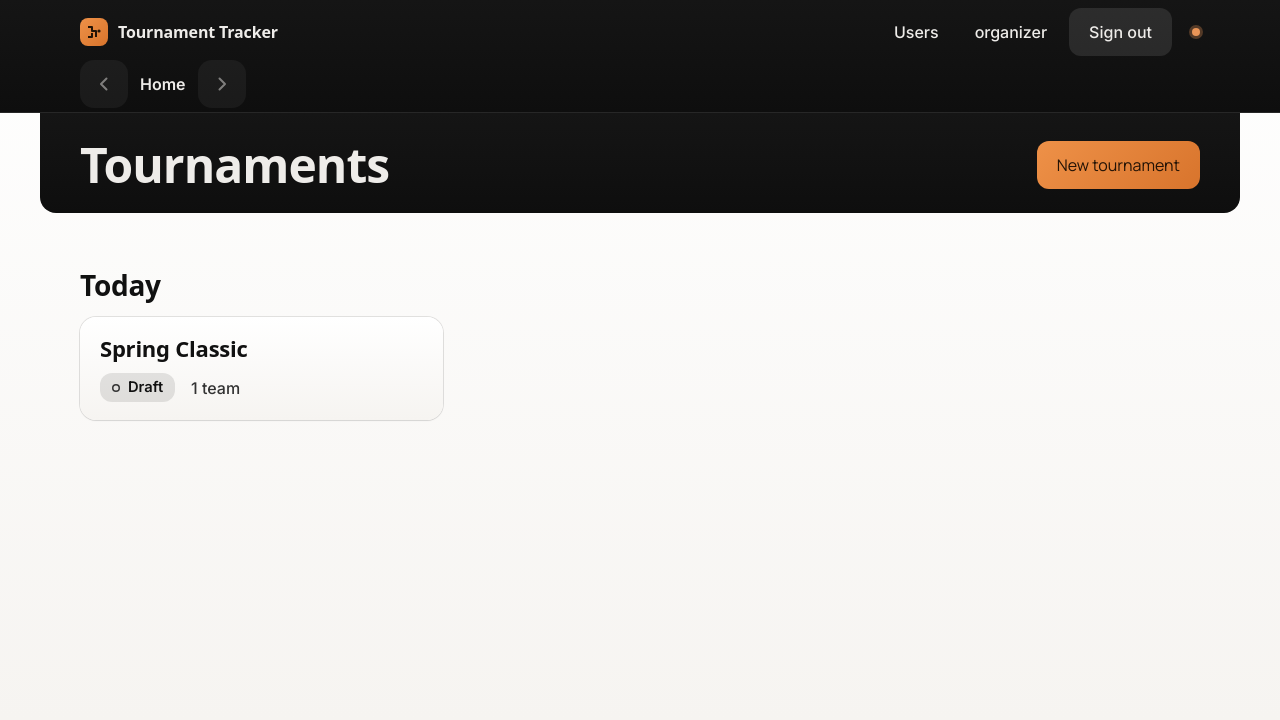
navigating from the main page to a tournament page and back to a team page
This screenshot has width=1280, height=720.
What coordinates should you click on to do the following:
click the link "Spring Classic"
I would click on:
 (174, 348)
Its box is [100, 335, 248, 361].
(page scrolled)
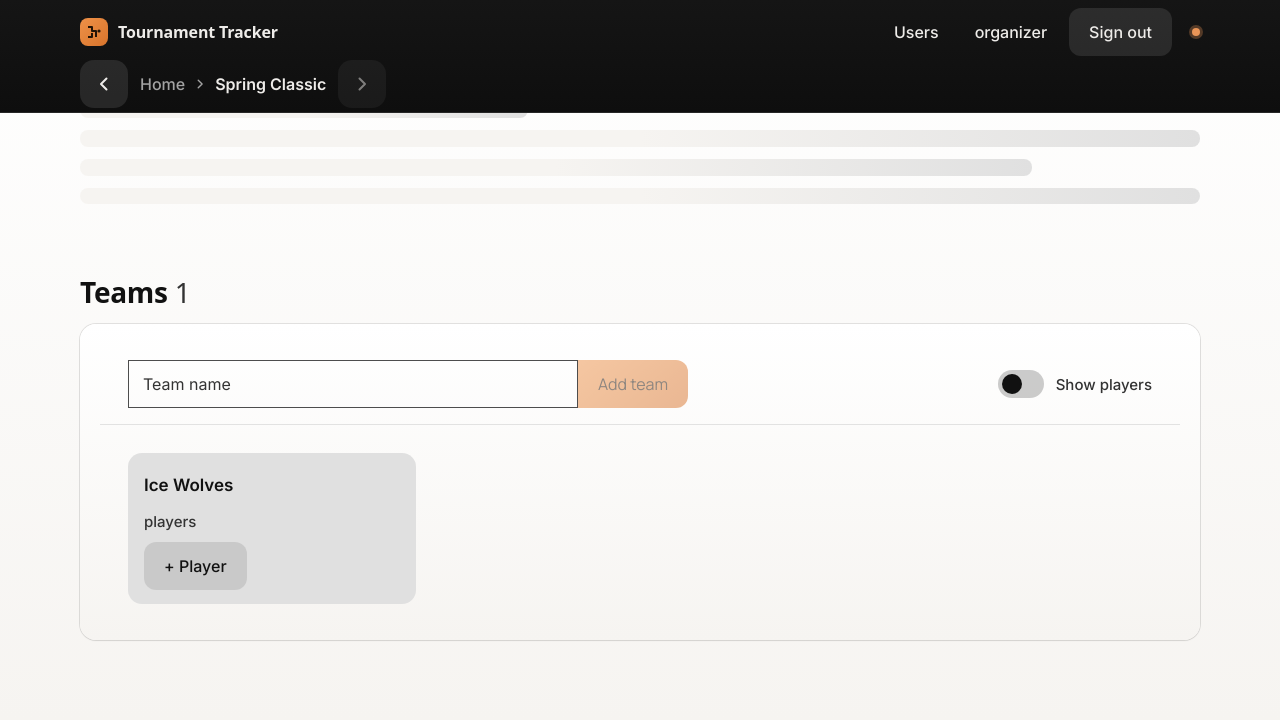
What coordinates should you click on to do the following:
click the link "Ice Wolves"
I would click on:
 (189, 485)
Its box is [144, 475, 233, 495].
(page scrolled)
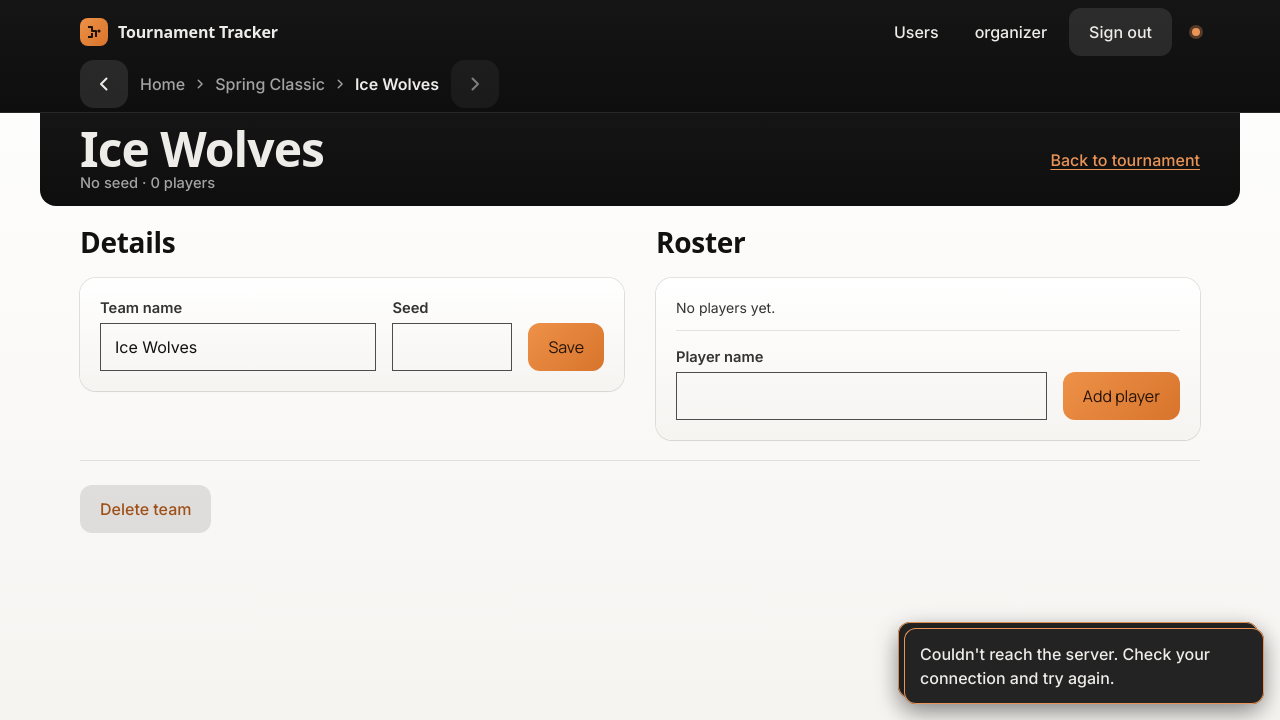
expect the field showing "Ice Wolves" is shown: met, box [100, 323, 376, 371]
